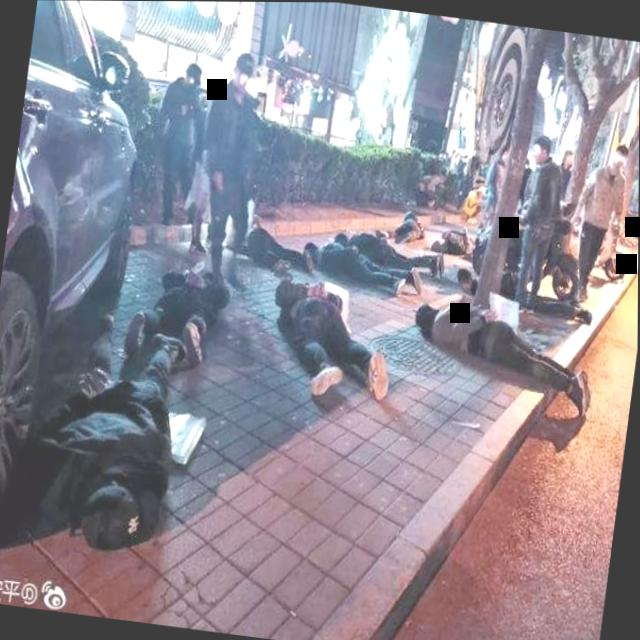Fall-Detected: (223, 188, 322, 287)
